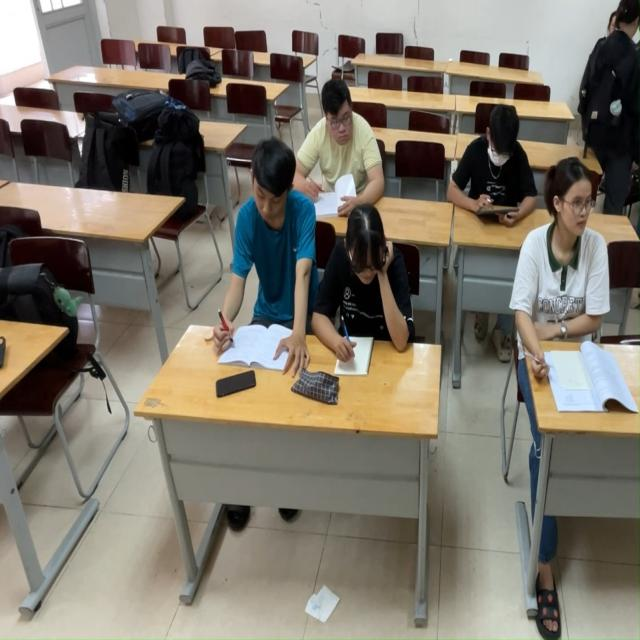read: (216, 133, 313, 378), (319, 199, 416, 370), (452, 98, 543, 223)
